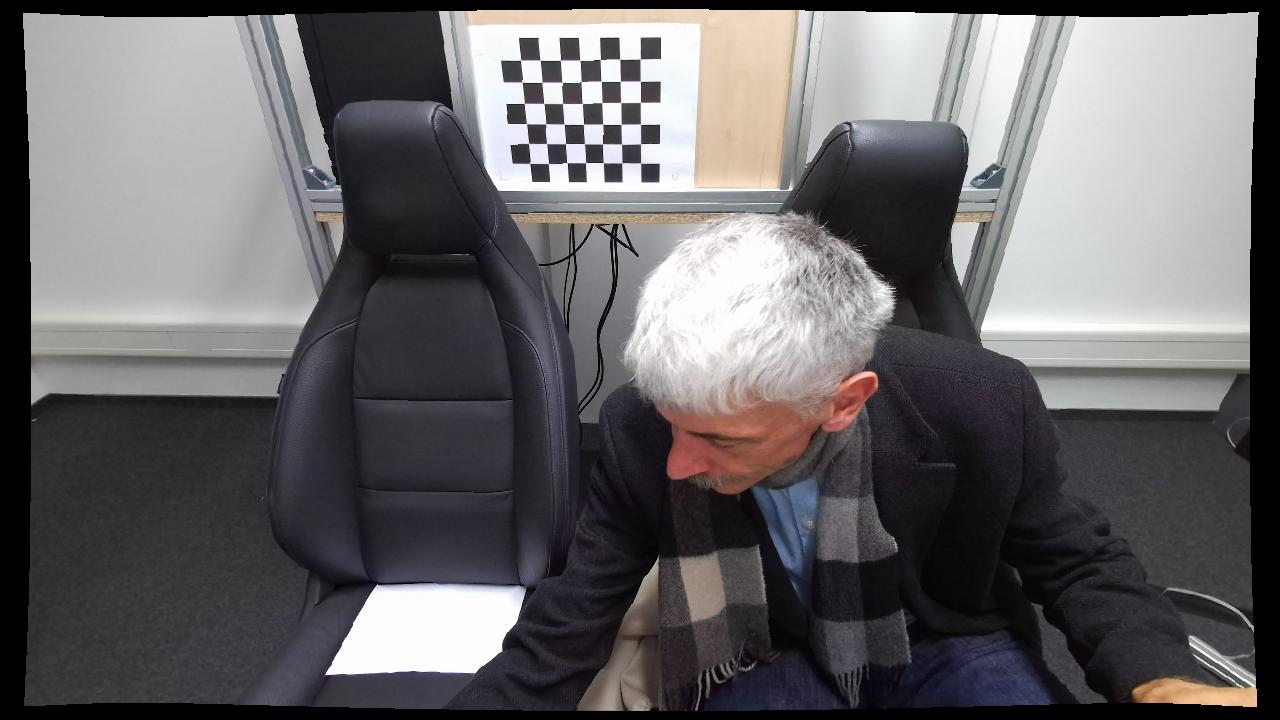Distracted: (441, 218, 1250, 711)
